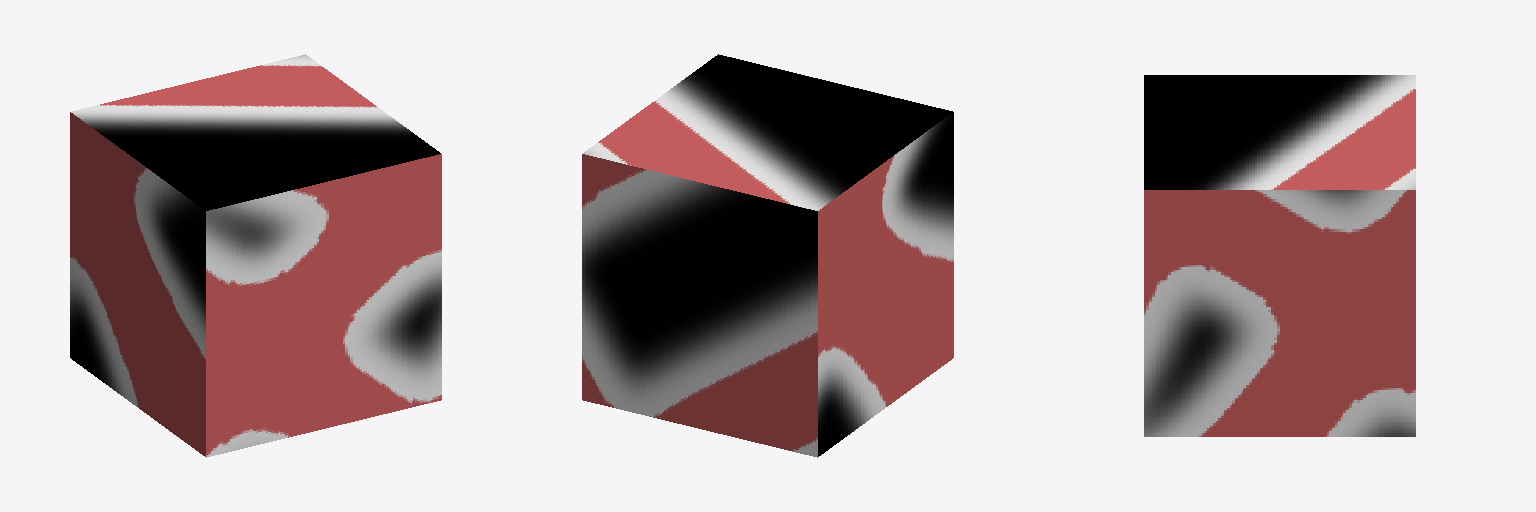
3 views of the same model, side by side, from view 1: azimuth 30°, elevation 25°; view 2: azimuth 150°, elevation 25°; view 3: azimuth 270°, elevation 25° (orthographic).
Parts seen in each view (by area): view 1: 頭; view 2: 頭; view 3: 頭.
Boxes of the visible parts, <box> form: 頭: <box>70,54,441,457</box>; 頭: <box>582,54,953,457</box>; 頭: <box>1144,75,1415,436</box>.
Size of the model in its own units: 6 by 6 by 6.
1 materials, 1 textured.